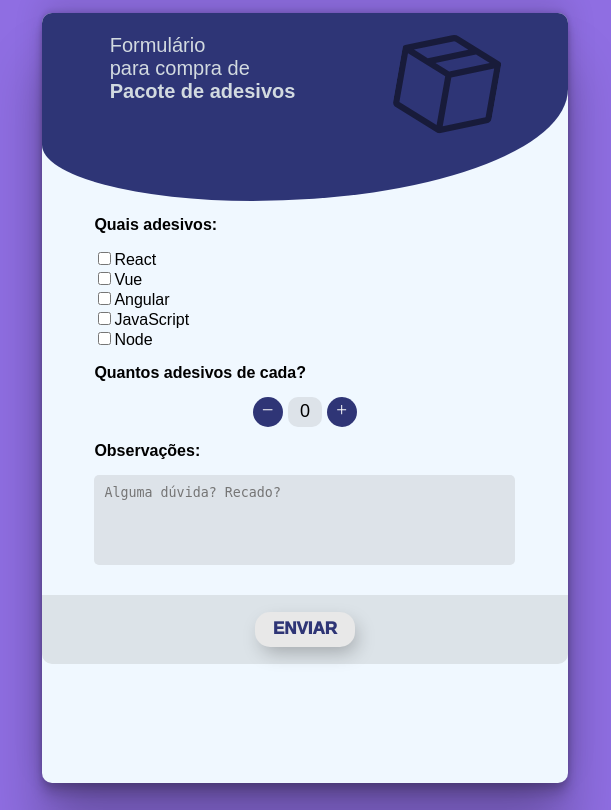
Test: Renderização do componente Counter › Verifica a existência e a funcionalidade do botão "mais"
Click the button with test id "plus": point(342, 412) x1=327 y1=396 x2=357 y2=426
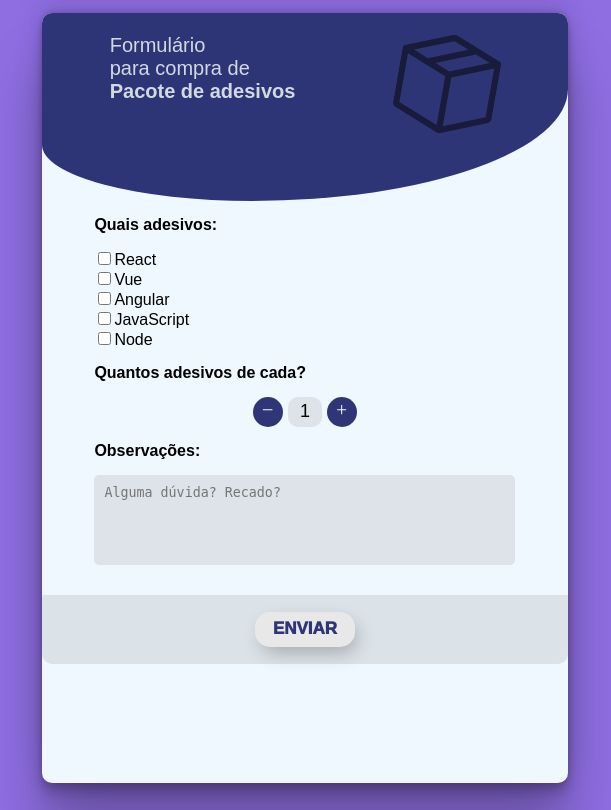
Now the field with test id "result" holds "1", box x1=288 y1=396 x2=322 y2=426
